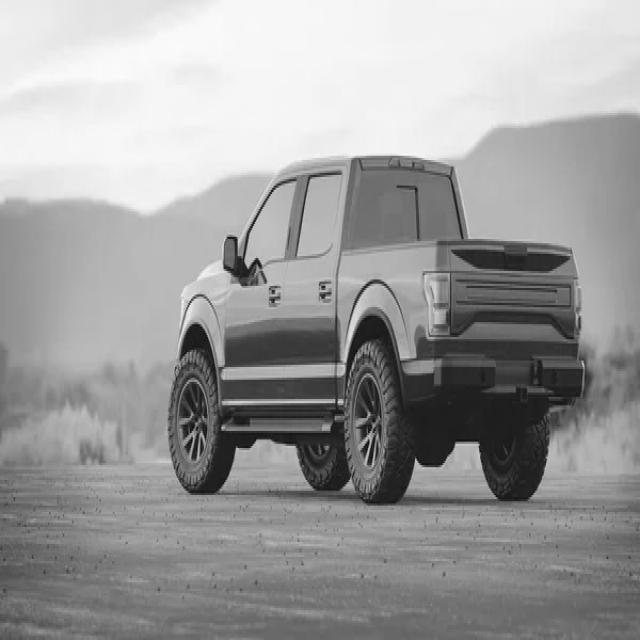Car: (168, 153, 586, 502)
